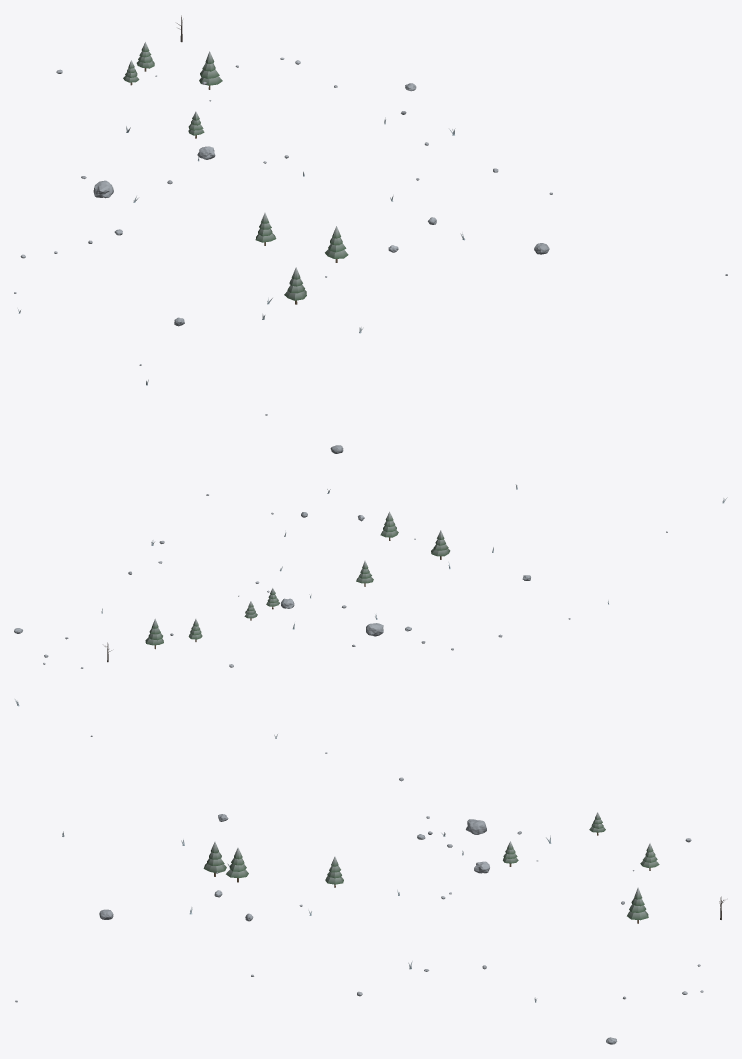
Rendered from frost_land_scatter_c20_12.glb.
3 views of the same model, one above another, from view 1: azimuth 30°, elevation 25°; view 2: azimuth 150°, elevation 25°; view 3: azimuth 270°, elevation 25° (orthographic). The views are drawn at different scales.
Parts seen in each view (by area): view 1: frost_land_scatter_c20_12; view 2: frost_land_scatter_c20_12; view 3: frost_land_scatter_c20_12.
Boxes of the visible parts, <box> form: frost_land_scatter_c20_12: <box>14,15,727,385</box>; frost_land_scatter_c20_12: <box>14,414,727,668</box>; frost_land_scatter_c20_12: <box>14,698,724,1044</box>.
Bounding box in the file's own units: 196 × 33.82 × 219.
